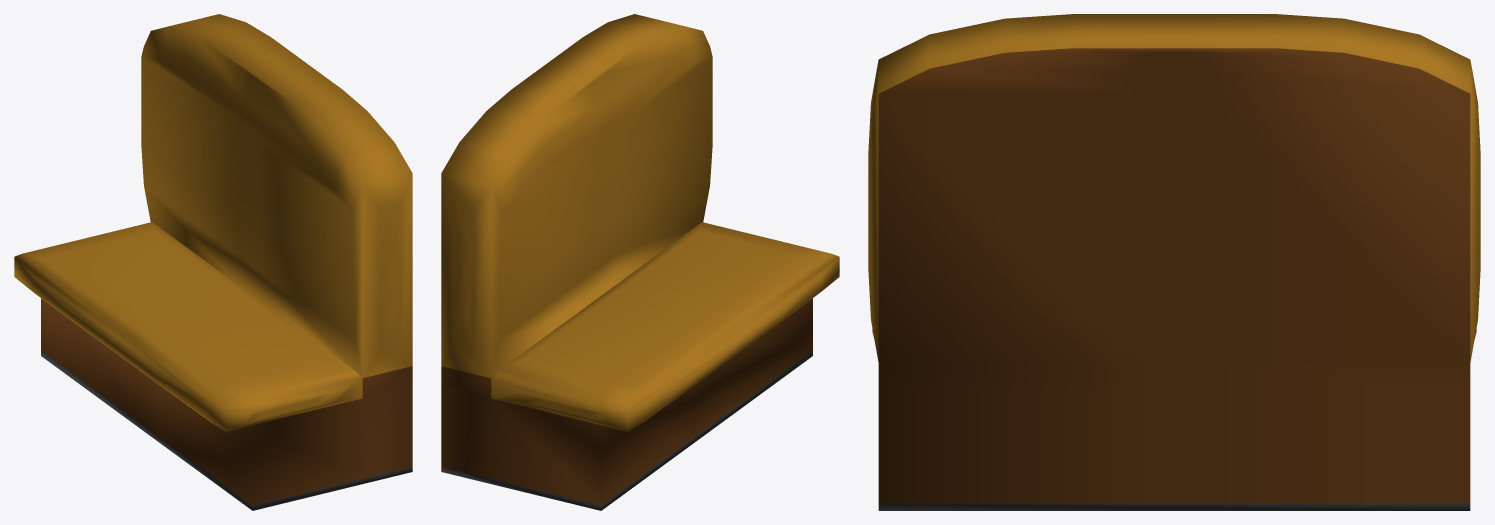
The model's file is BoothChair_01.fbx.
3 views of the same model, side by side, from view 1: azimuth 30°, elevation 25°; view 2: azimuth 150°, elevation 25°; view 3: azimuth 270°, elevation 25° (orthographic). The views are drawn at different scales.
Visible parts, largest first — view 1: Cube; view 2: Cube; view 3: Cube.
Boxes of the visible parts, x1=… form: Cube: x1=14, y1=14, x2=412, y2=510; Cube: x1=441, y1=14, x2=839, y2=510; Cube: x1=868, y1=14, x2=1480, y2=510.
Size of the model in its own units: 3.53 by 5.76 by 6.9.
